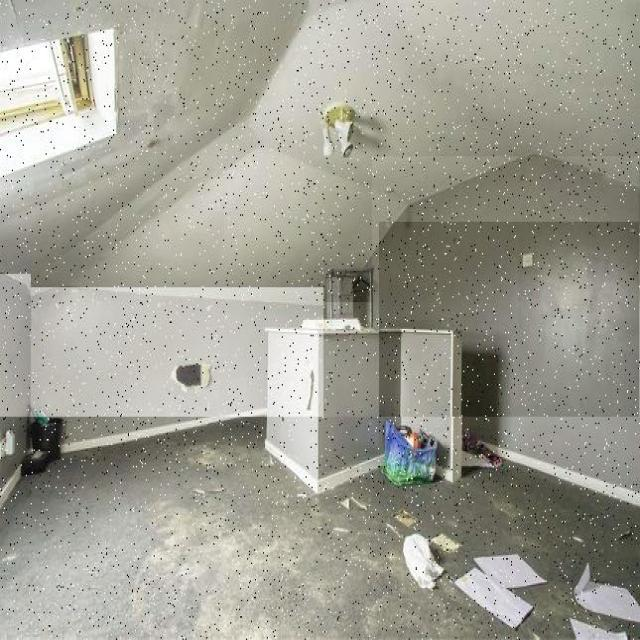Wall: (0, 0, 640, 302), (0, 418, 640, 639), (380, 223, 639, 493), (25, 287, 323, 447), (373, 157, 640, 321), (375, 4, 506, 81), (0, 274, 31, 490), (311, 92, 359, 160), (353, 50, 389, 92), (389, 81, 390, 84)
